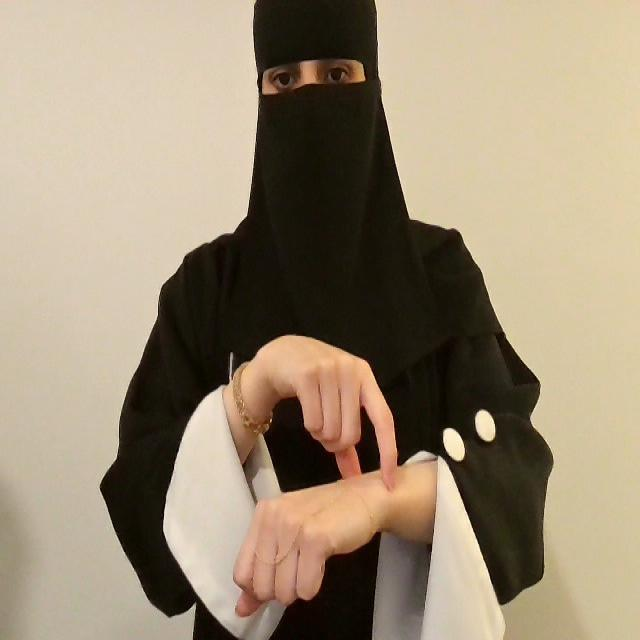appointment: (228, 330, 436, 622)
